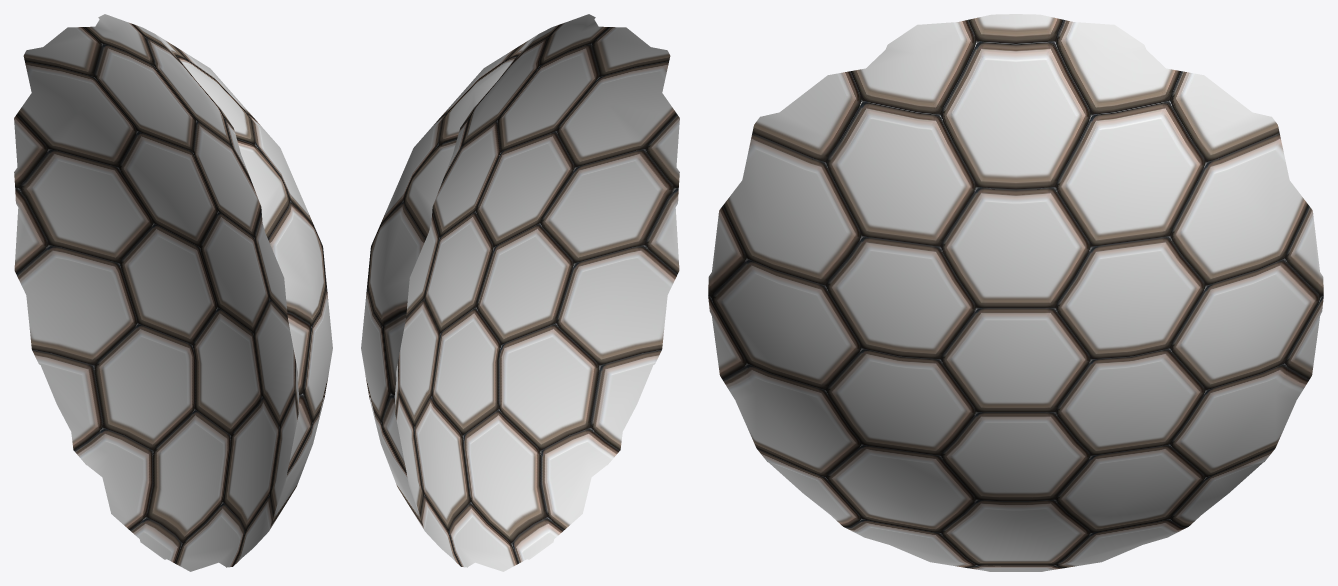
The model's file is Shield.FBX.
3 renders of one model, left to right at view 1: azimuth 30°, elevation 25°; view 2: azimuth 150°, elevation 25°; view 3: azimuth 270°, elevation 25°, orthographic. The views are drawn at different scales.
Parts seen in each view (by area): view 1: GeoSphere003; view 2: GeoSphere003; view 3: GeoSphere003.
Boxes of the visible parts, x1,y1,x2,y2 form: GeoSphere003: (14, 14, 332, 571); GeoSphere003: (361, 14, 679, 571); GeoSphere003: (708, 14, 1323, 571).
Size of the model in its own units: 2.99 by 10.21 by 10.19.
